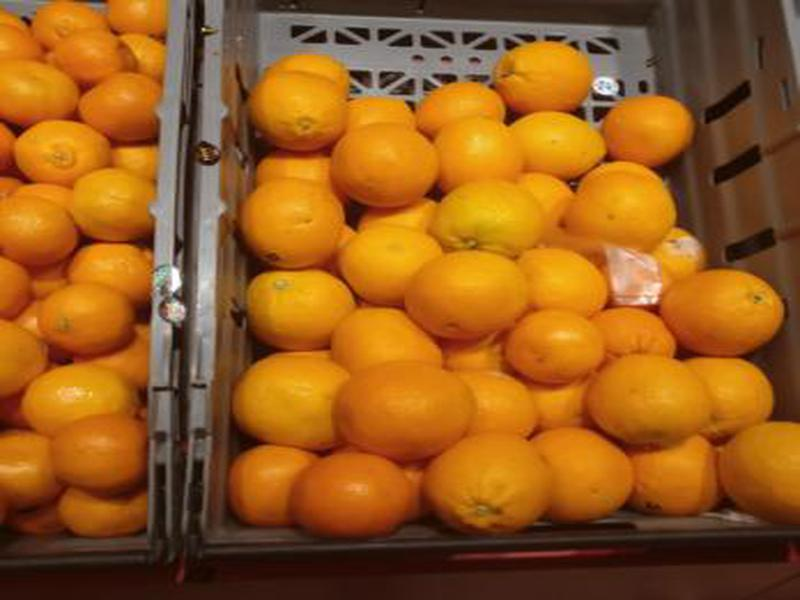orange: (326, 355, 489, 461), (420, 423, 557, 544), (223, 344, 358, 458), (660, 246, 785, 367), (282, 446, 428, 542), (559, 149, 676, 260), (588, 352, 721, 448), (524, 425, 644, 529), (231, 173, 350, 272), (407, 249, 529, 345), (221, 441, 334, 544), (331, 297, 445, 398), (18, 355, 141, 445), (326, 119, 444, 210), (232, 267, 360, 349), (333, 223, 461, 304), (624, 432, 732, 522), (430, 178, 548, 260), (43, 416, 161, 494), (489, 35, 599, 117), (678, 350, 775, 442), (246, 68, 350, 152), (513, 240, 610, 327), (71, 167, 170, 250), (725, 411, 800, 518), (74, 65, 172, 146), (601, 91, 698, 172), (441, 362, 539, 441), (55, 475, 161, 544), (259, 46, 356, 120), (39, 281, 133, 356), (506, 310, 603, 381), (1, 59, 96, 131), (589, 298, 679, 373), (1, 185, 86, 262), (436, 120, 528, 190), (10, 118, 112, 181), (60, 236, 158, 298), (413, 81, 511, 142), (1, 430, 66, 515), (45, 36, 137, 92), (38, 1, 119, 52), (1, 326, 54, 402), (344, 91, 421, 142), (95, 27, 173, 75), (1, 12, 49, 79), (1, 256, 32, 318), (125, 1, 166, 30)
